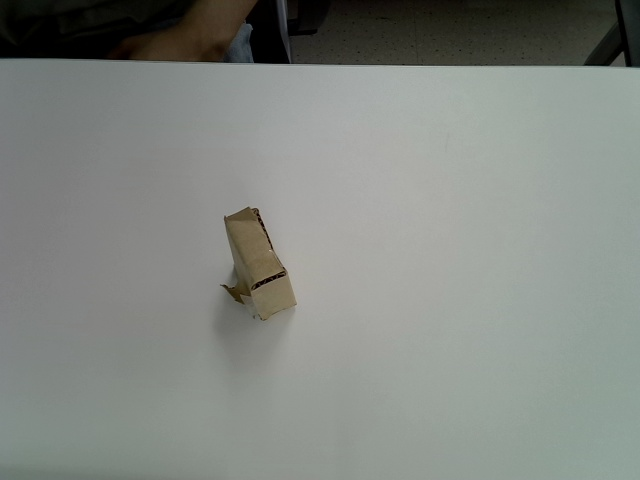defect: (220, 207, 297, 321)
